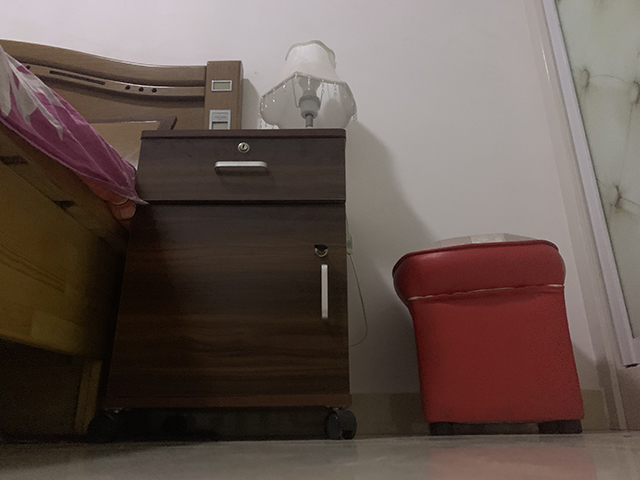bed: (1, 37, 244, 437)
cabinet: (103, 119, 362, 443)
stool: (389, 231, 587, 436)
